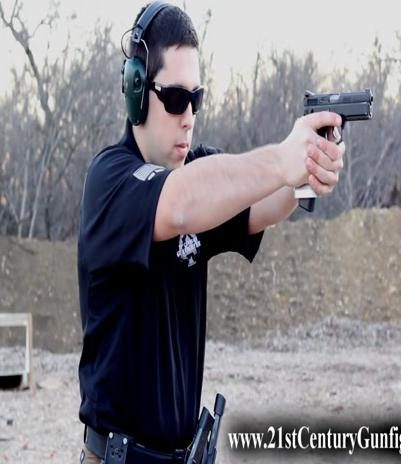pistol: (294, 88, 374, 211)
